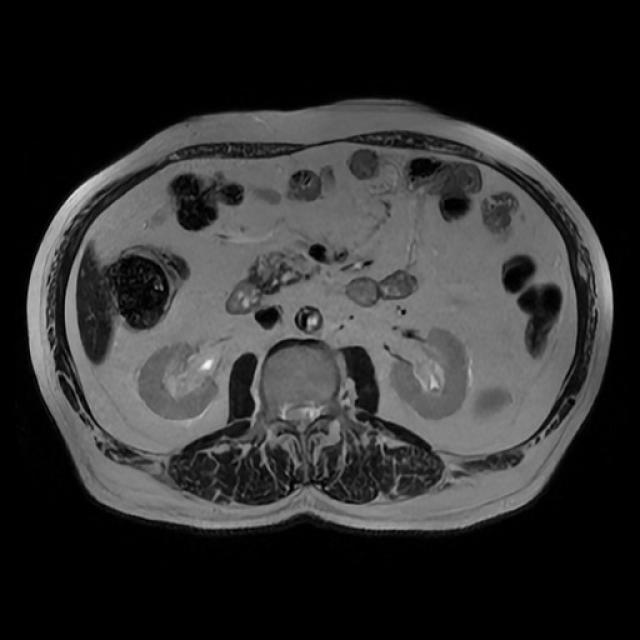sag: (137, 340, 215, 421)
sol: (391, 325, 470, 420)
